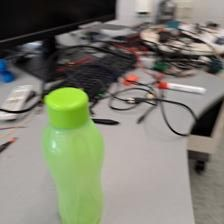bottle: (41, 85, 108, 224)
